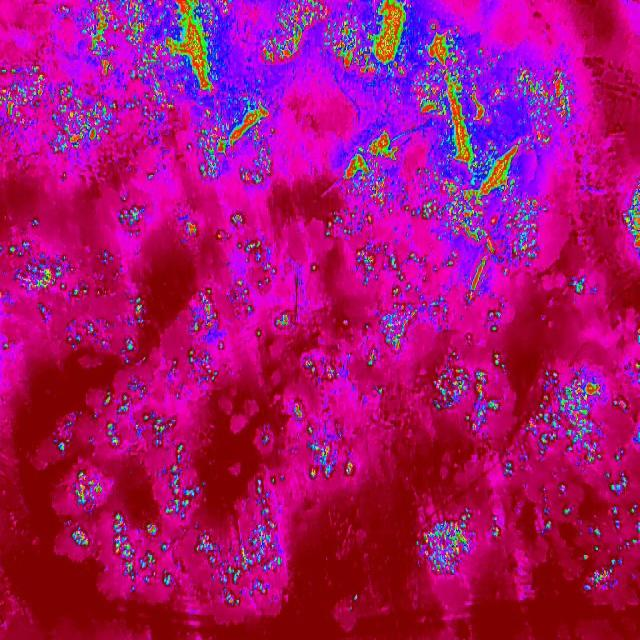fire: (323, 0, 577, 272), (46, 366, 284, 609), (63, 0, 326, 190), (0, 197, 293, 365), (419, 357, 640, 482), (489, 484, 640, 597), (0, 62, 119, 158), (282, 352, 361, 483), (362, 271, 446, 365), (405, 508, 476, 582), (617, 179, 640, 263), (464, 256, 493, 304), (480, 301, 507, 344), (565, 268, 592, 304)
